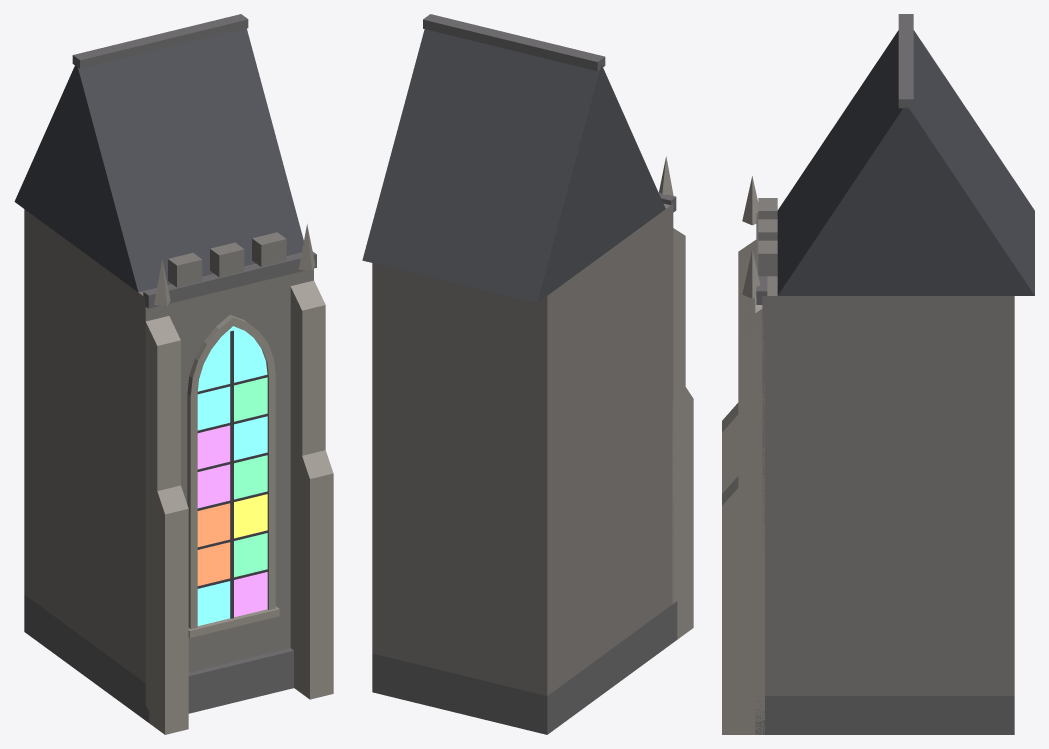
File: library_bay.glb
3 renders of one model, left to right at view 1: azimuth 30°, elevation 25°; view 2: azimuth 150°, elevation 25°; view 3: azimuth 270°, elevation 25°, orthographic. The views are drawn at different scales.
Visible parts, largest first — view 1: Upper, Plinth; view 2: Upper, Plinth; view 3: Upper, Plinth.
Part boxes in pixels (left/top/right/bottom): Upper: left=14, top=14, right=333, bottom=734; Plinth: left=24, top=595, right=333, bottom=734; Upper: left=362, top=14, right=693, bottom=695; Plinth: left=372, top=587, right=693, bottom=734; Upper: left=722, top=14, right=1034, bottom=734; Plinth: left=722, top=696, right=1014, bottom=734.
Bounding box in the file's own units: 4 × 13.9 × 6.2.
